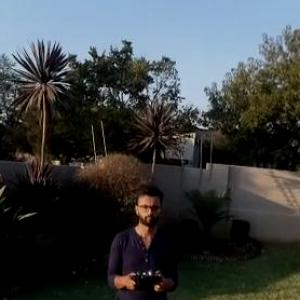follow: (104, 180, 181, 299)
